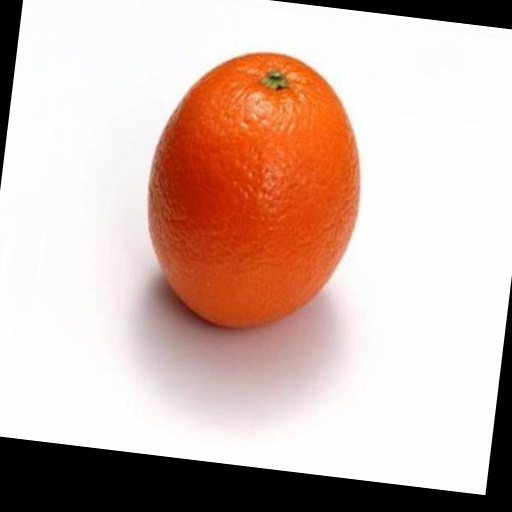fruit: (148, 53, 359, 326)
